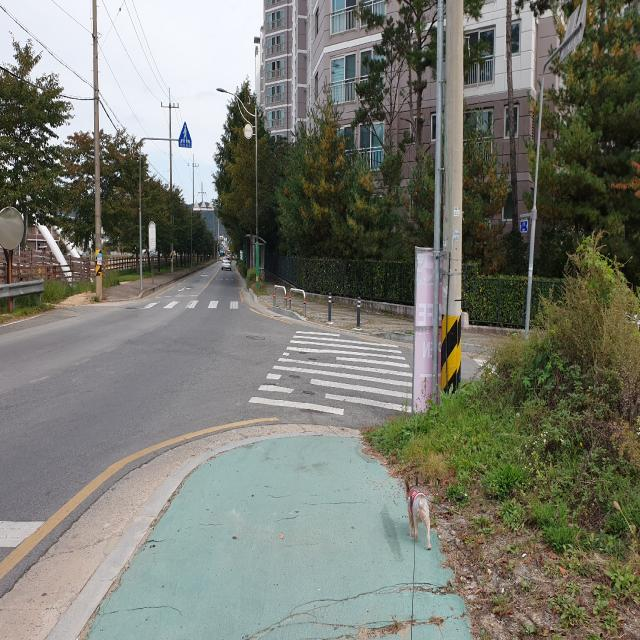횡단보도: (248, 328, 414, 417), (126, 295, 241, 315)
